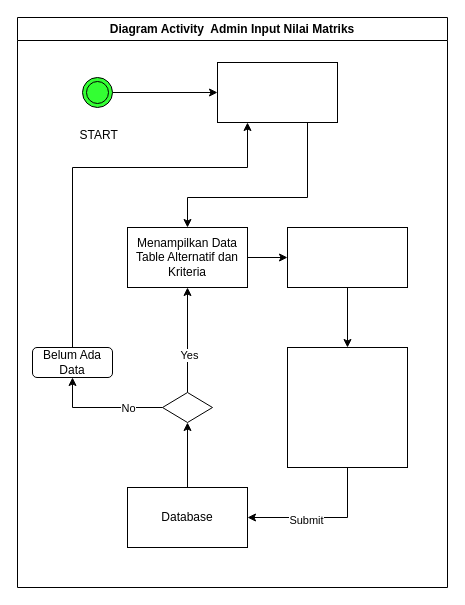
Some shapes in this 465 by 605 pixel diagram are drawn without their labels. The shapes that lost their labels are listed below. From the top down, each one's centre as x and y in pixels, then its label:
At pixel 277 92: "Matriks Penilaian".
At pixel 347 257: "Edit Alternatif".
At pixel 347 407: "Nilai Matriks : Kode Alternatif Kode Kriteria".
